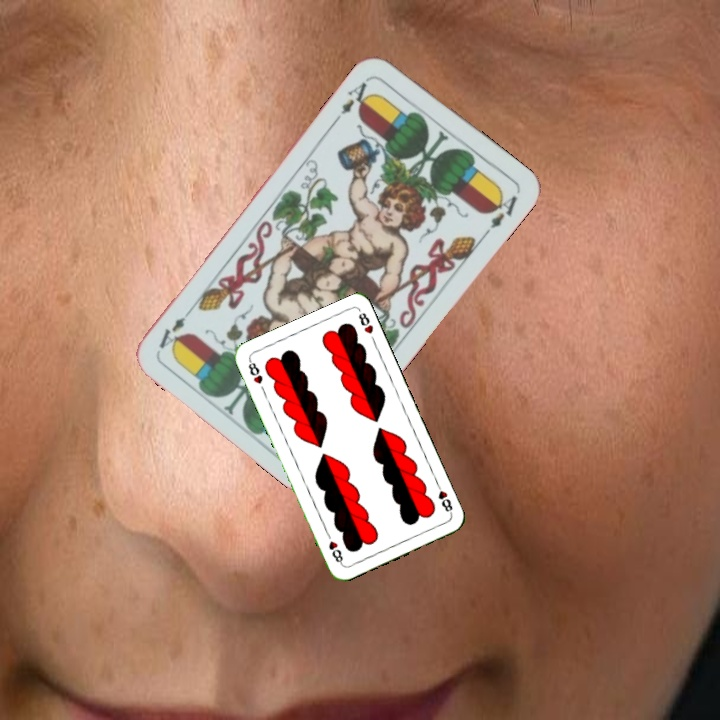EA: (331, 78, 375, 124)
H8: (432, 479, 455, 517), (244, 356, 265, 386)
